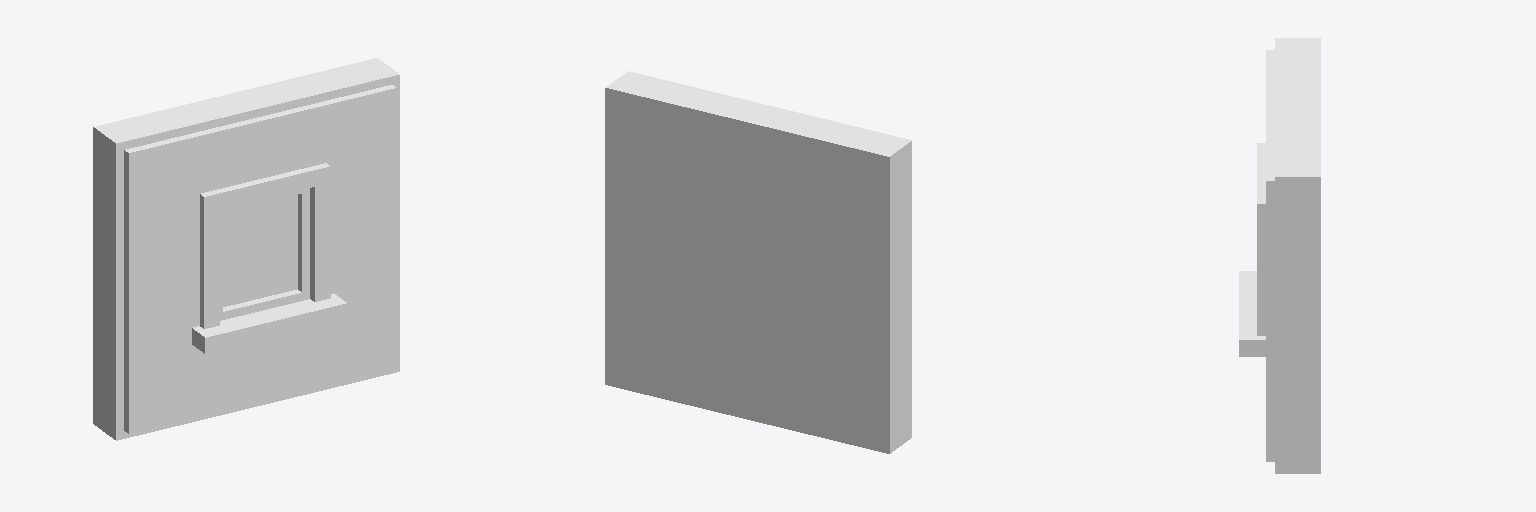
File: fenetre-14.obj
The picture shows the model from 3 angles: view 1: azimuth 30°, elevation 25°; view 2: azimuth 150°, elevation 25°; view 3: azimuth 270°, elevation 25°; orthographic projection.
Parts seen in each view (by area): view 1: object 1; view 2: object 1; view 3: object 1.
Boxes of the visible parts, box(x1,y1,x2,y2) form: object 1: box(93, 58, 399, 440); object 1: box(605, 71, 911, 453); object 1: box(1239, 38, 1320, 473).
Size of the model in its own units: 3.6 by 3.6 by 0.9.